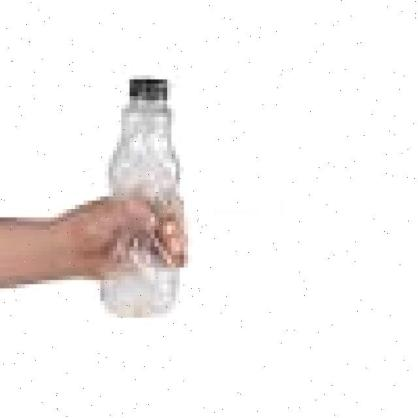bottle: (60, 73, 194, 321)
cap: (112, 76, 173, 108)
